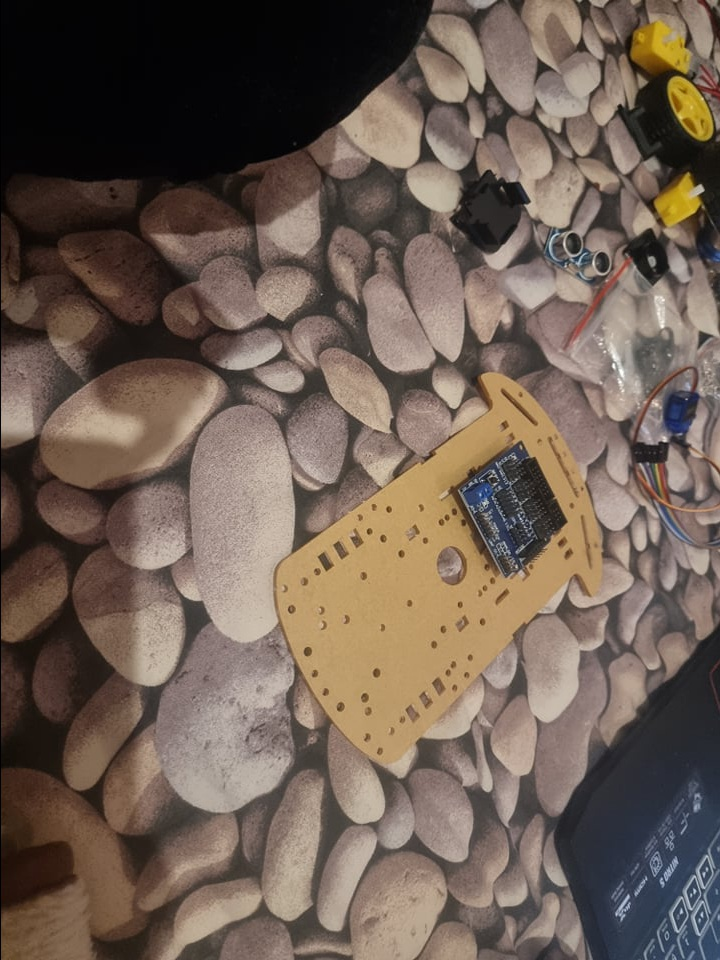5V EXPANSION: (455, 437, 567, 580)
SENSOR: (541, 225, 616, 283)
